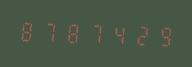eight: (61, 18, 82, 46), (17, 17, 38, 44)
four: (105, 20, 126, 48)
nine: (149, 21, 170, 49)
seven: (83, 19, 104, 47), (39, 18, 60, 45)
two: (127, 21, 148, 48)
